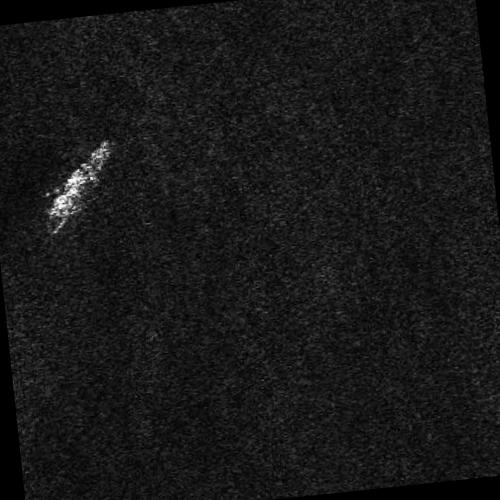ship: (45, 136, 117, 225)
